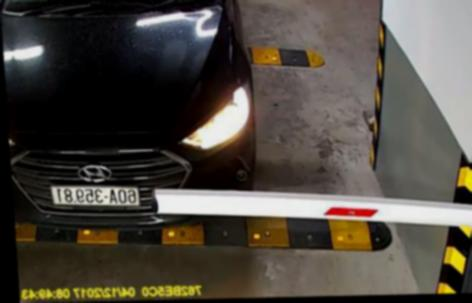License_Plate: (49, 176, 145, 211)
